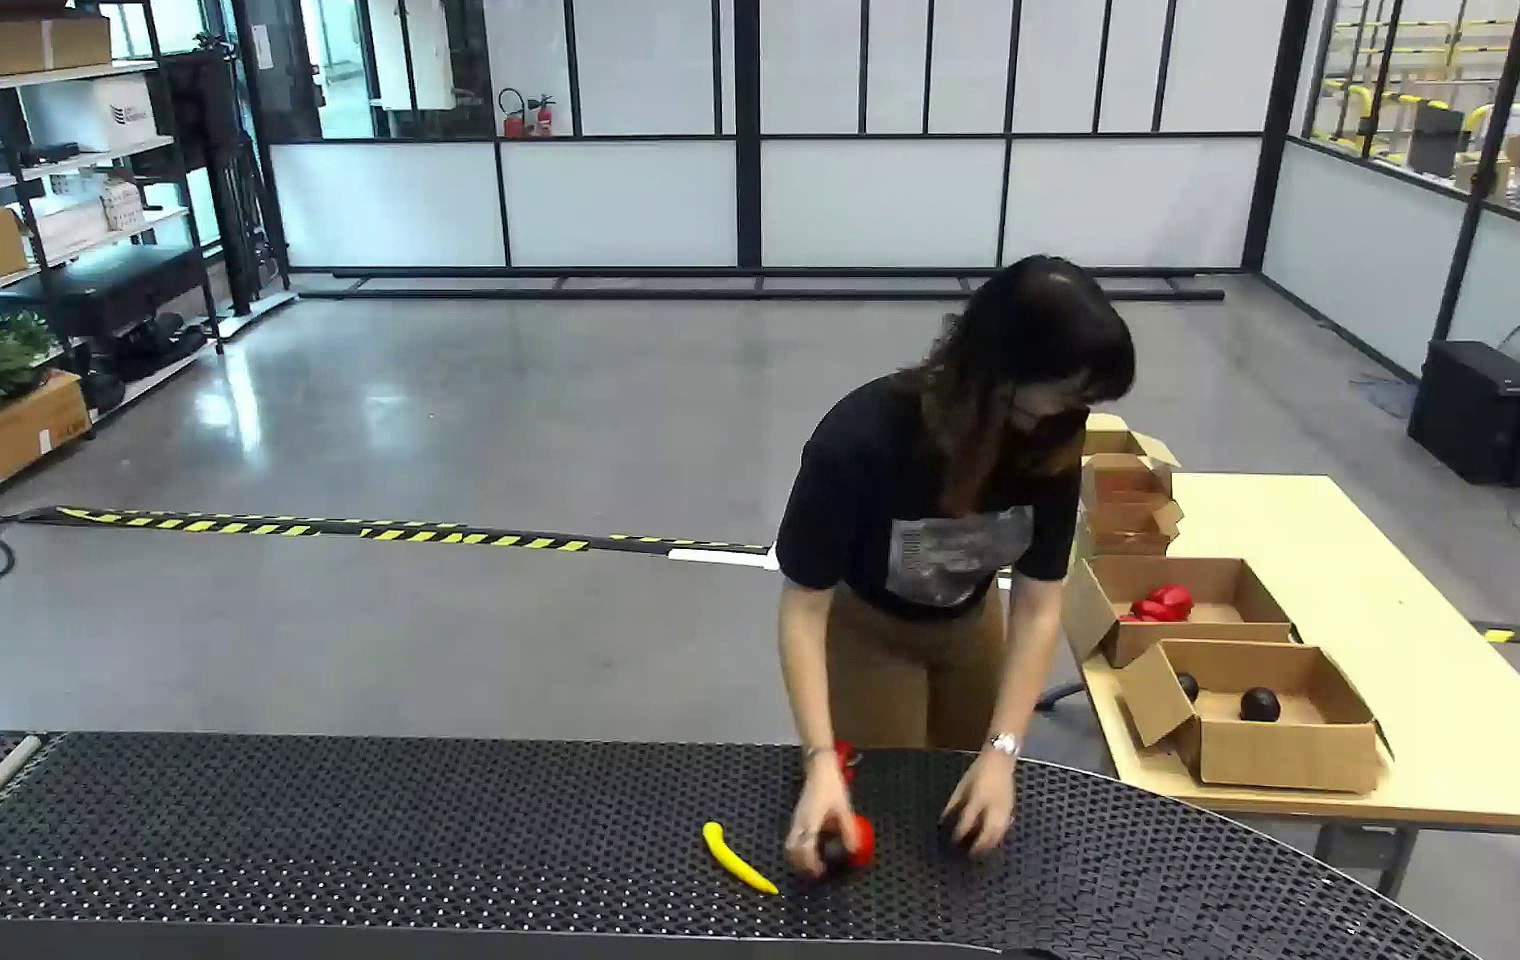Main droite: (785, 754, 859, 880)
